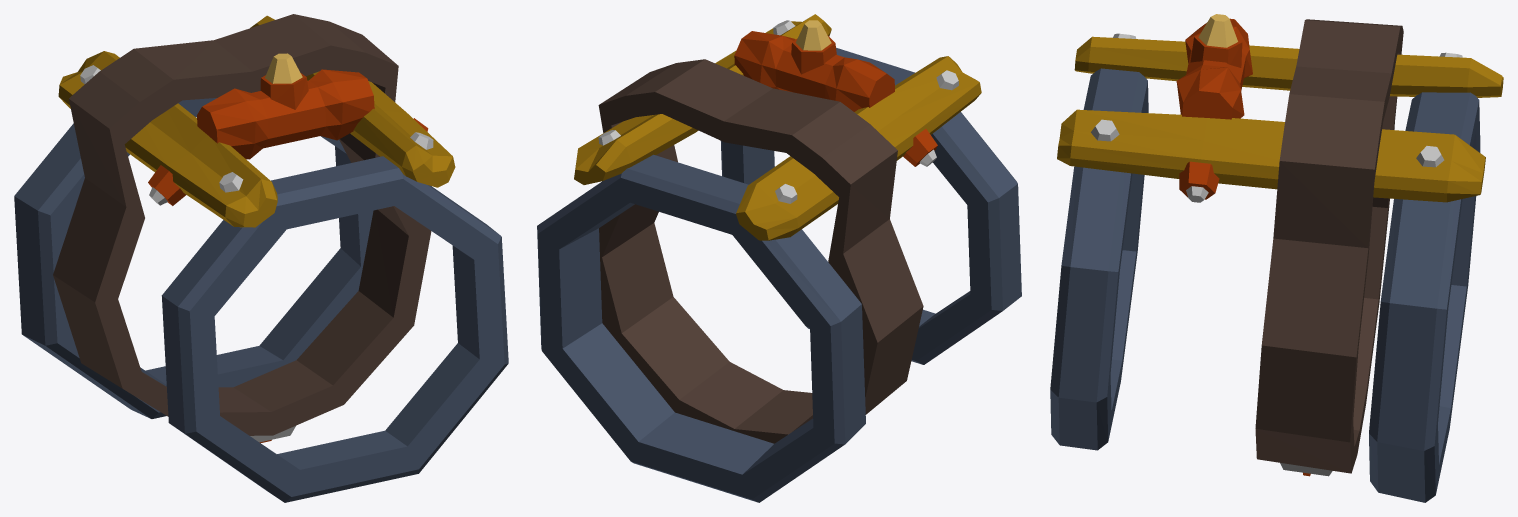
Rendered from hinge-splint-14864d.glb.
The picture shows the model from 3 angles, left to right: view 1: azimuth 30°, elevation 25°; view 2: azimuth 150°, elevation 25°; view 3: azimuth 270°, elevation 25°; orthographic projection. The views are drawn at different scales.
Visible parts, largest first — view 1: index-intermediate; view 2: index-intermediate; view 3: index-intermediate.
Boxes of the visible parts, x1,y1,x2,y2 form: index-intermediate: [14, 14, 508, 502]; index-intermediate: [537, 14, 1021, 502]; index-intermediate: [1050, 14, 1503, 502].
Bounding box in the file's own units: 0.0223 × 0.0256 × 0.0237.
